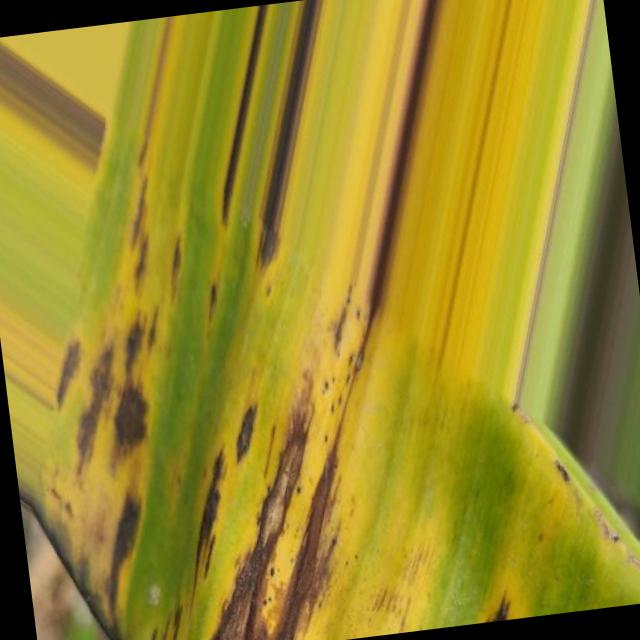Banana_Yellow_Sigatoka: (51, 285, 374, 640), (218, 0, 511, 273)
